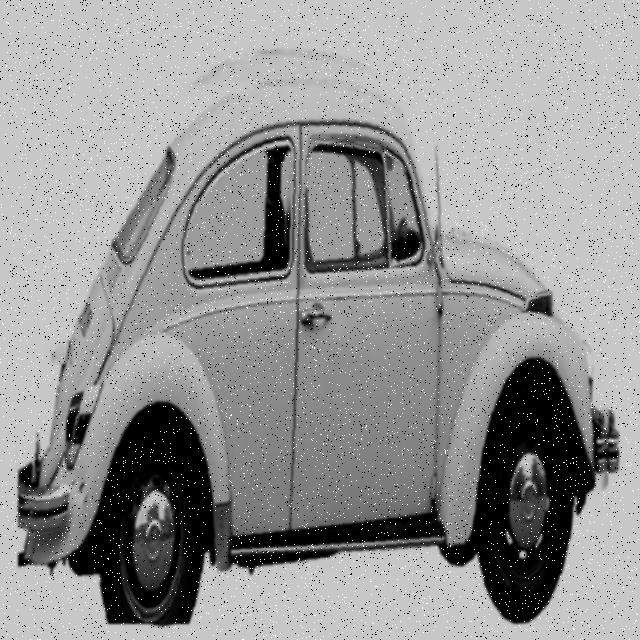car: (18, 48, 620, 625)
